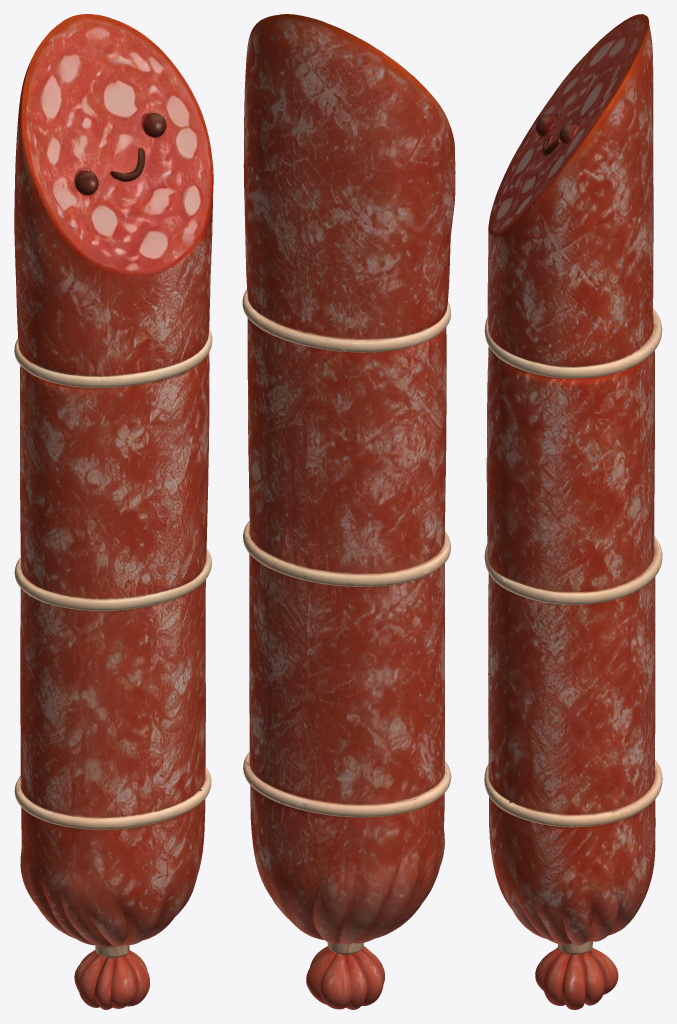
The model's file is salami.glb.
3 views of the same model, side by side, from view 1: azimuth 30°, elevation 25°; view 2: azimuth 150°, elevation 25°; view 3: azimuth 270°, elevation 25° (orthographic). The views are drawn at different scales.
Parts seen in each view (by area): view 1: Salami companion; view 2: Salami companion; view 3: Salami companion.
Boxes of the visible parts, x1,y1,x2,y2 form: Salami companion: (14,14,213,1009); Salami companion: (242,14,455,1009); Salami companion: (484,14,662,1009).
Bounding box in the file's own units: 0.152 × 0.77 × 0.1269.
Materials: 1 (1 with a texture image).
